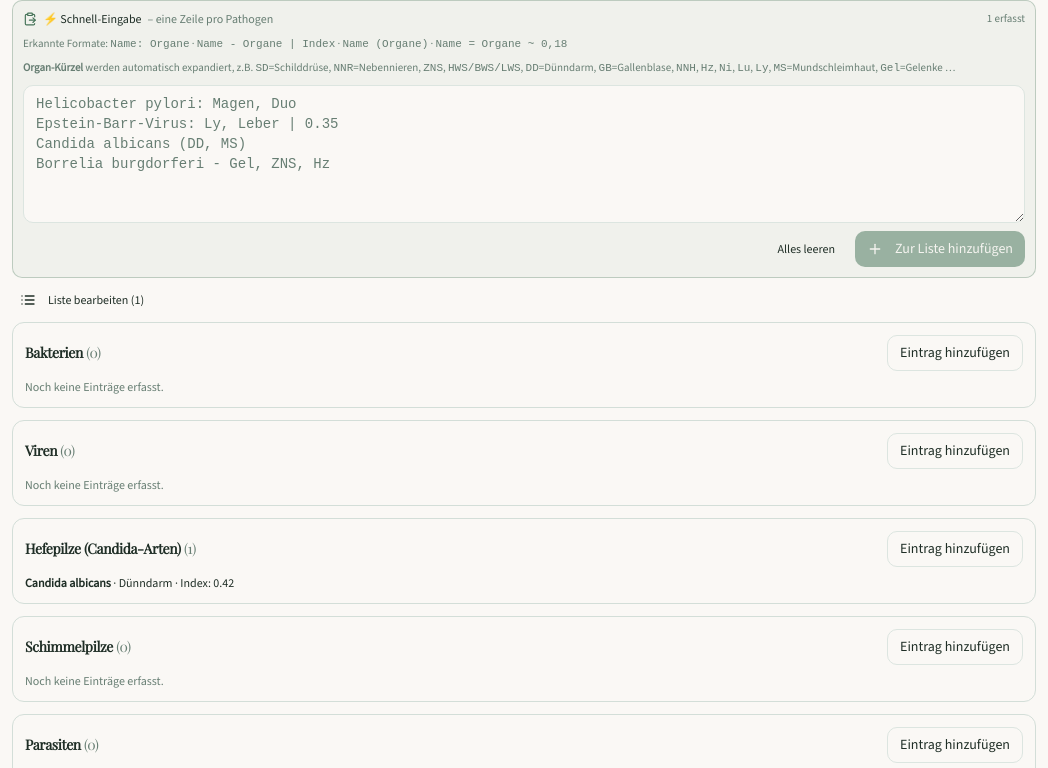
it: Metatron pathogen groups › keeps identity, source metadata, organs and index when a category is corrected
Expected: the text "Candida albicans" is shown, top-left (25, 574), bottom-right (111, 590)
Click the button "Liste bearbeiten (1)" at (82, 300), box top-left (12, 286), bottom-right (152, 314)
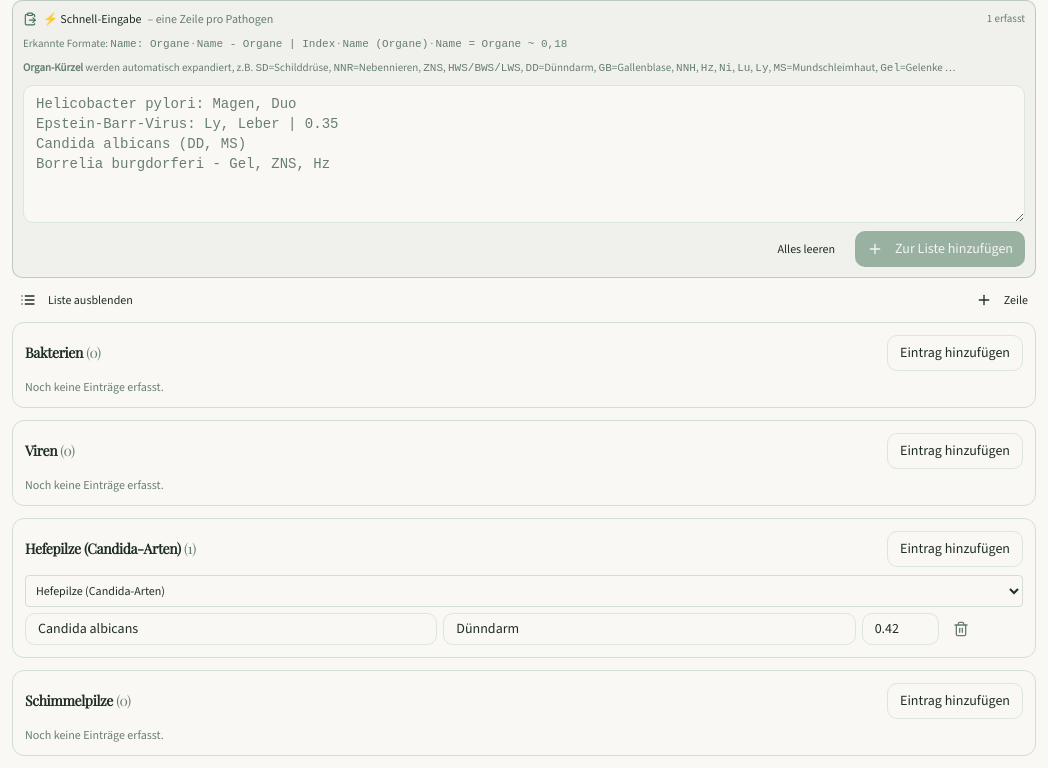
Select "Noch zuzuordnen" in the dropdown named "Gruppe für Candida albicans" at (524, 590), box top-left (25, 574), bottom-right (1023, 606)
(page scrolled)
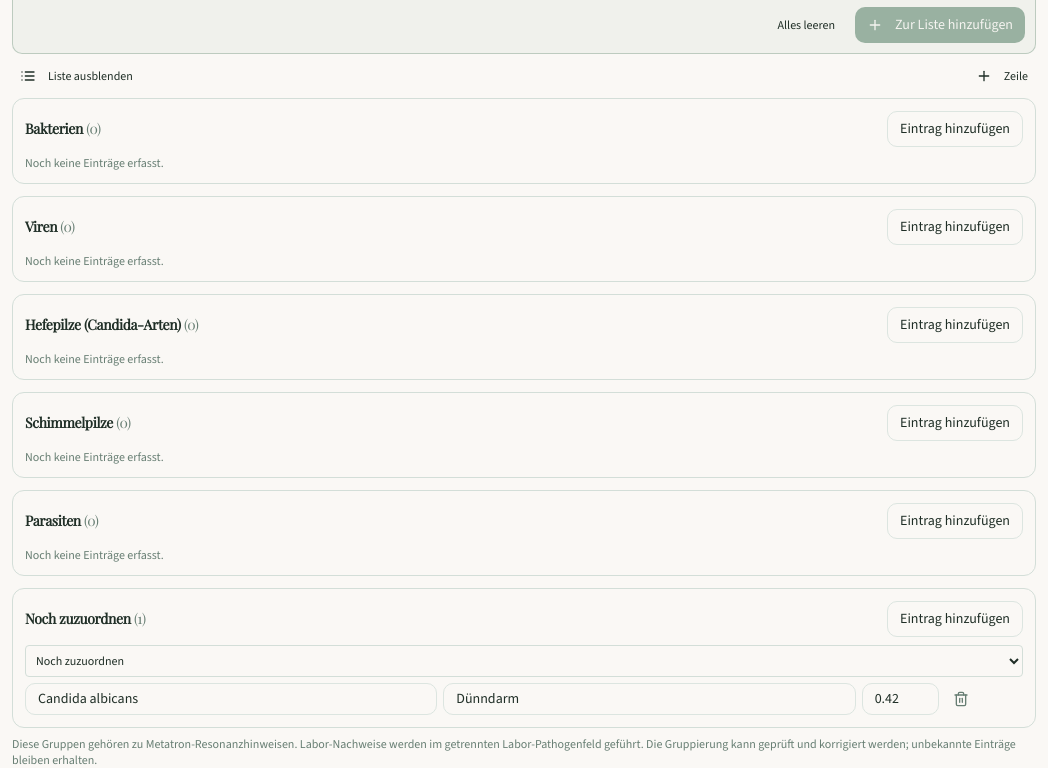
Expected: the element named "Metatron-Pathogene: Noch zuzuordnen" is shown, top-left (12, 588), bottom-right (1036, 728)
